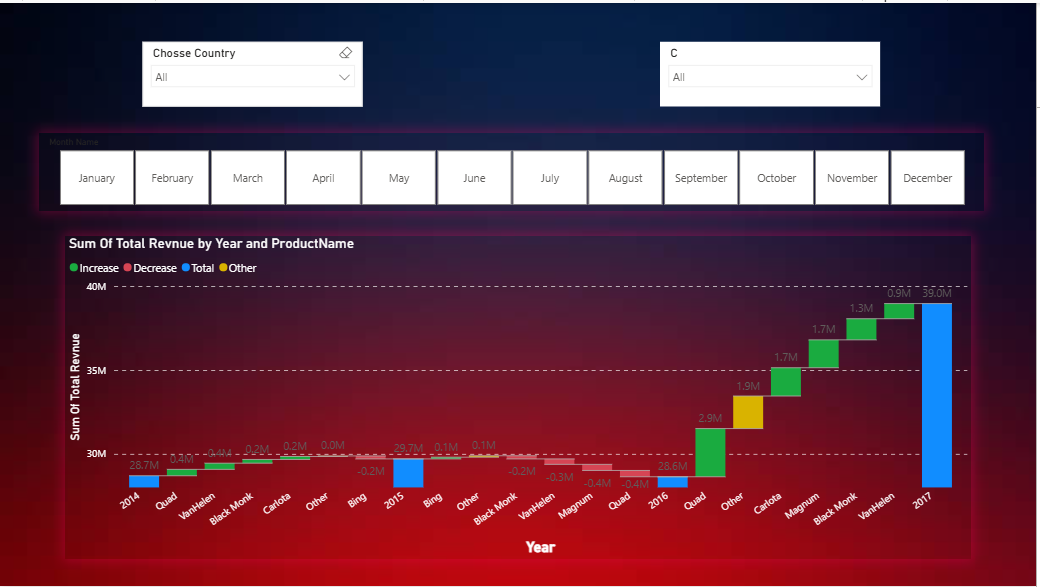

The dashboard page shown, as its layout file describes it:
{"tool":"powerbi","page":{"name":"Revenue by Country/year","canvas":[1280,720],"ordinal":2},"visuals":[{"type":"waterfallChart","fields":{"Category":["CalenderMaster.Year"],"Y":["FactSales.Total Revenue"],"Breakdown":["DimProducts.ProductName"]},"box":[80,288,1120,400],"z":0},{"type":"slicer","fields":{"Values":["CalenderMaster.Month Name"]},"box":[48,160,1168,96],"z":1000},{"type":"slicer","fields":{"Values":["DimGeography.Country"]},"box":[176,48,272,80],"z":2000},{"type":"slicer","fields":{"Values":["CalenderMaster.Date.Variation.Date Hierarchy.Year"]},"box":[816,48,272,80],"z":3000}]}

Visuals, with their boxes in screenshot pixels (x1, y1, x2, y2), scaled from the page's 1280x720 canvas onto the 1040x587 screenshot:
waterfallChart - CalenderMaster.Year x FactSales.Total Revenue: box=[65, 235, 975, 561]
slicer - CalenderMaster.Month Name: box=[39, 130, 988, 209]
slicer - DimGeography.Country: box=[143, 39, 364, 104]
slicer - CalenderMaster.Date.Variation.Date Hierarchy.Year: box=[663, 39, 884, 104]
